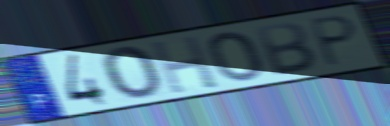4: (62, 51, 111, 108)
B: (253, 20, 320, 78)
H: (147, 33, 221, 96)
O: (99, 45, 165, 101), (206, 29, 265, 83)
P: (309, 13, 360, 69)
